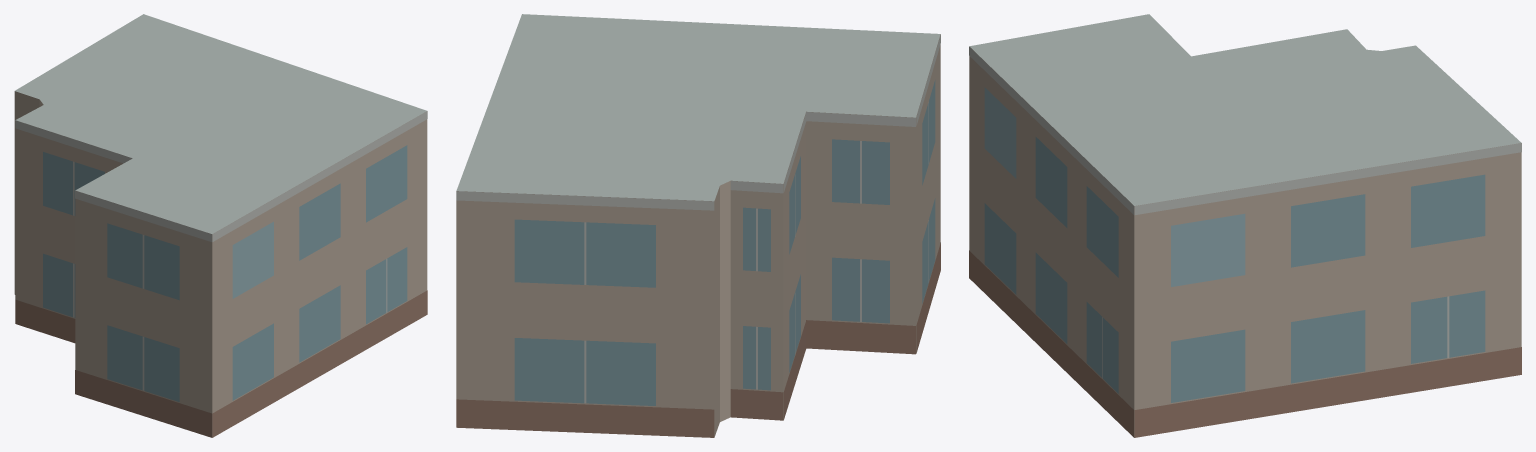
Rendered from survey-upis-32987761.glb.
3 views of the same model, side by side, from view 1: azimuth 30°, elevation 25°; view 2: azimuth 150°, elevation 25°; view 3: azimuth 270°, elevation 25° (orthographic). The views are drawn at different scales.
Visible parts, largest first — view 1: survey-upis-32987761.tmp; view 2: survey-upis-32987761.tmp; view 3: survey-upis-32987761.tmp.
Part boxes in pixels (left/top/right/bottom): survey-upis-32987761.tmp: left=14, top=14, right=427, bottom=437; survey-upis-32987761.tmp: left=456, top=14, right=940, bottom=437; survey-upis-32987761.tmp: left=969, top=14, right=1521, bottom=437.
Bounding box in the file's own units: 10.85 × 6.1 × 13.19.
